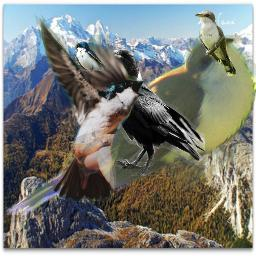Crow: (104, 47, 205, 176)
Cuckoo: (3, 35, 256, 215), (195, 10, 236, 76)
Swallow: (34, 14, 147, 201), (74, 41, 107, 75)
